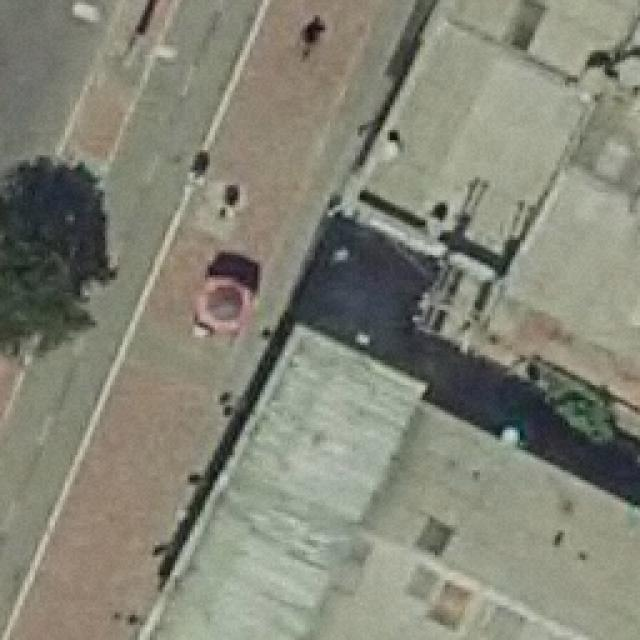vendedor_ambulante: (191, 270, 257, 337)
